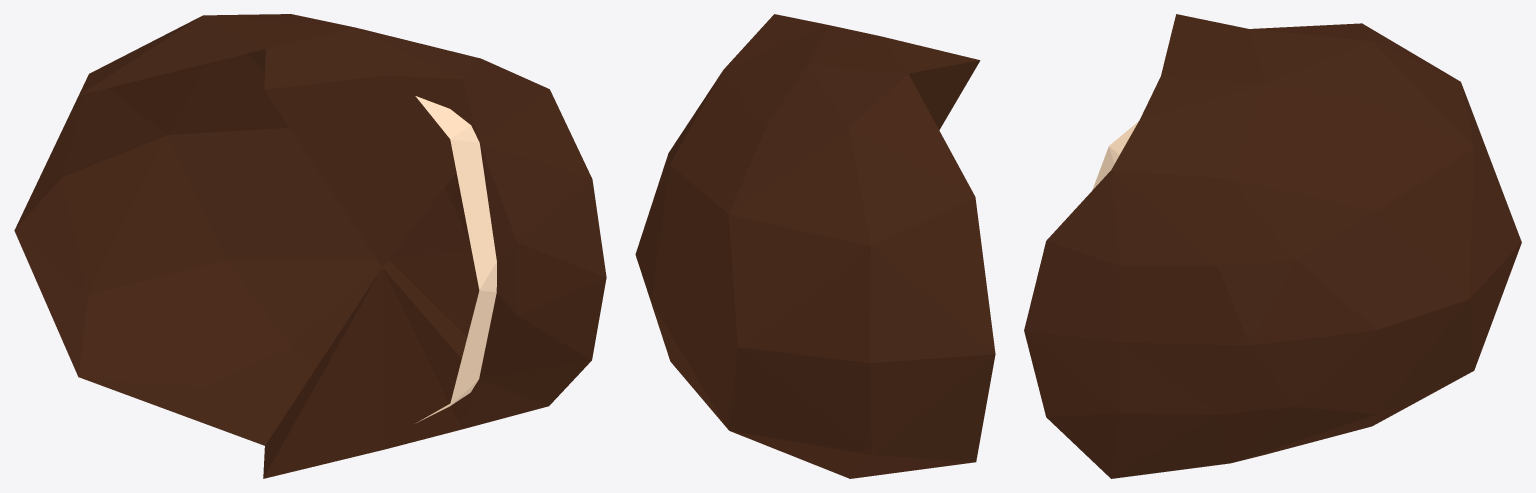
File: hair31.glb
The picture shows the model from 3 angles, left to right: view 1: azimuth 30°, elevation 25°; view 2: azimuth 150°, elevation 25°; view 3: azimuth 270°, elevation 25°; orthographic projection. The views are drawn at different scales.
Parts seen in each view (by area): view 1: tomodachi-2026-03-17-12-12-28-684, tomodachi-2026-03-17-12-12-28-684.008; view 2: tomodachi-2026-03-17-12-12-28-684; view 3: tomodachi-2026-03-17-12-12-28-684, tomodachi-2026-03-17-12-12-28-684.008.
Part boxes in pixels (x1,y1,x2,y2): tomodachi-2026-03-17-12-12-28-684: [14, 14, 606, 478]; tomodachi-2026-03-17-12-12-28-684.008: [415, 96, 496, 422]; tomodachi-2026-03-17-12-12-28-684: [635, 14, 995, 478]; tomodachi-2026-03-17-12-12-28-684: [1024, 14, 1521, 478]; tomodachi-2026-03-17-12-12-28-684.008: [1092, 121, 1138, 190].
Bounding box in the file's own units: 1.18 × 1.04 × 1.21.
2 materials, 2 textured.
